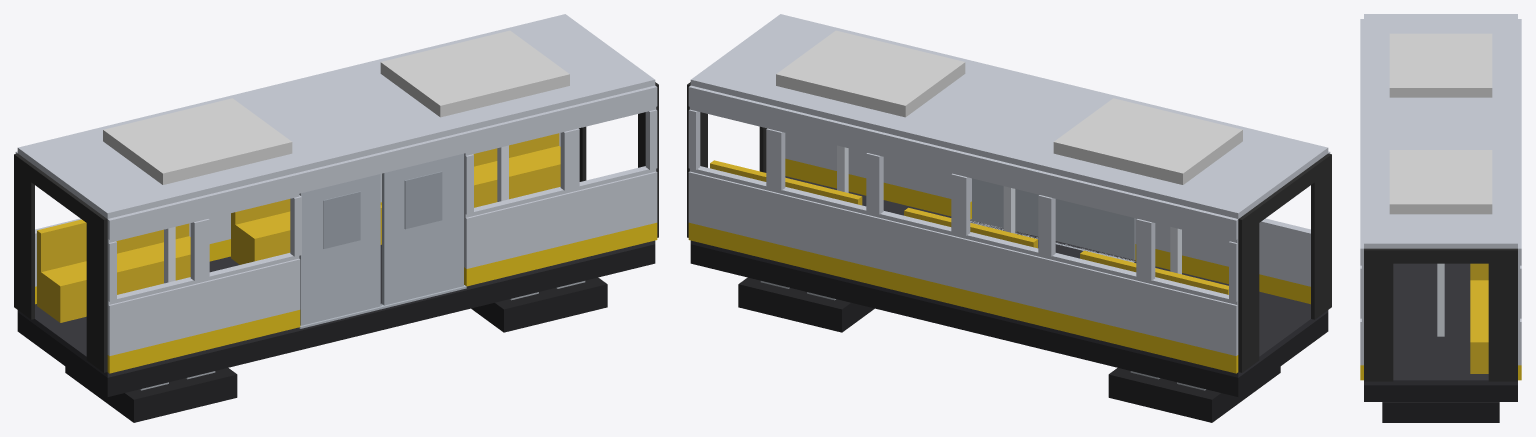
Rendered from metro_wagon_closed_l4.obj.
The picture shows the model from 3 angles, left to right: view 1: azimuth 30°, elevation 25°; view 2: azimuth 150°, elevation 25°; view 3: azimuth 270°, elevation 25°; orthographic projection. The views are drawn at different scales.
Bounding box in the file's own units: 3 × 1.26 × 0.88.
